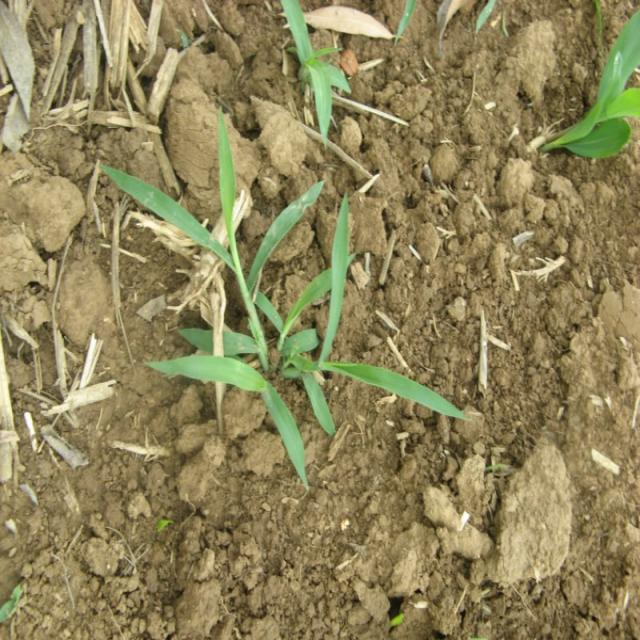bg: (106, 111, 471, 493)
